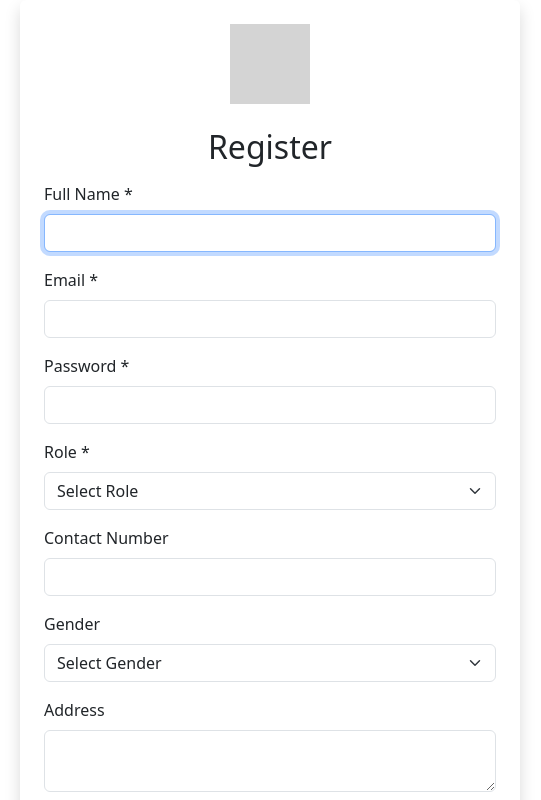
it: Register Component › prevents registration if role is ADMIN
In the field labelled "Full Name *": point(270, 233) [44, 214, 496, 252], type "Test User"
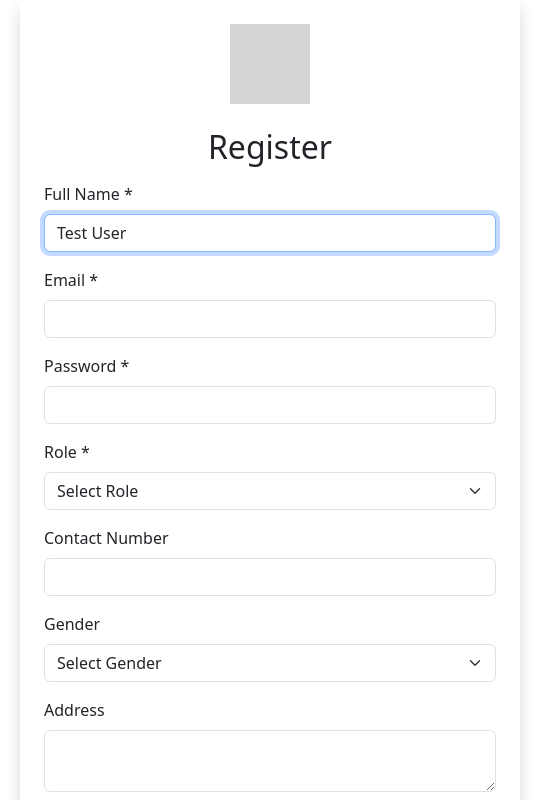
In the field labelled "Email *": point(270, 319) [44, 300, 496, 338], type "test@mail.com"
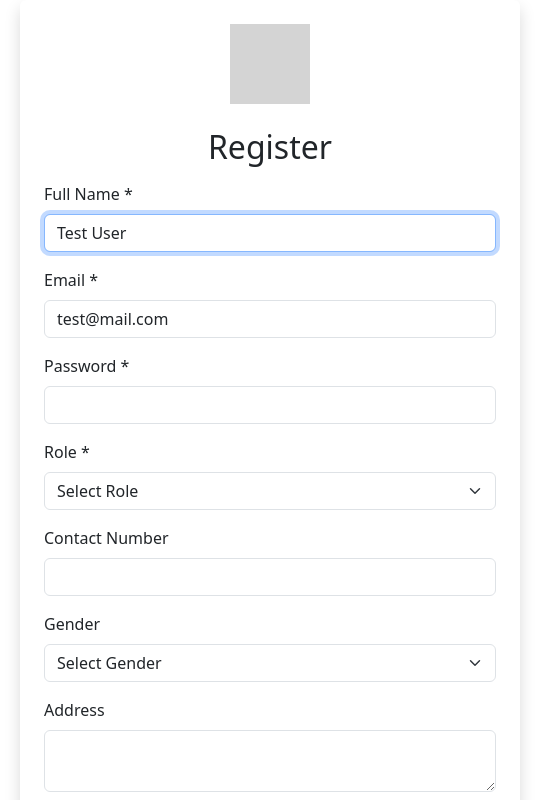
In the password field labelled "Password *": point(270, 405) [44, 386, 496, 424], type "Password1"
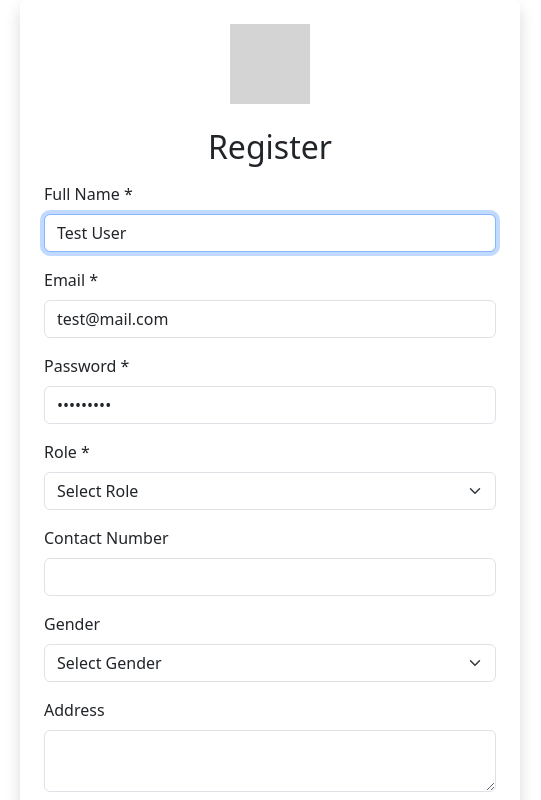
Select "ADMIN" in the dropdown labelled "Role *": point(270, 491) [44, 472, 496, 510]
(page scrolled)
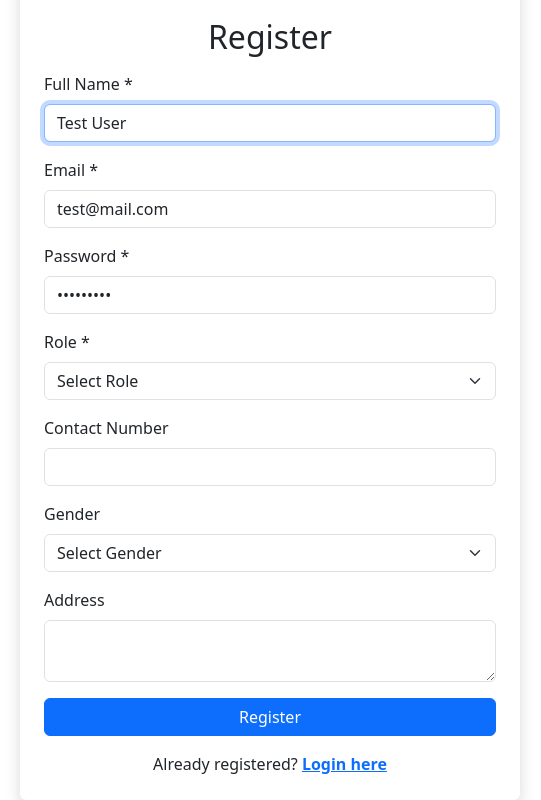
Click the button "Register": point(270, 717) [44, 698, 496, 736]
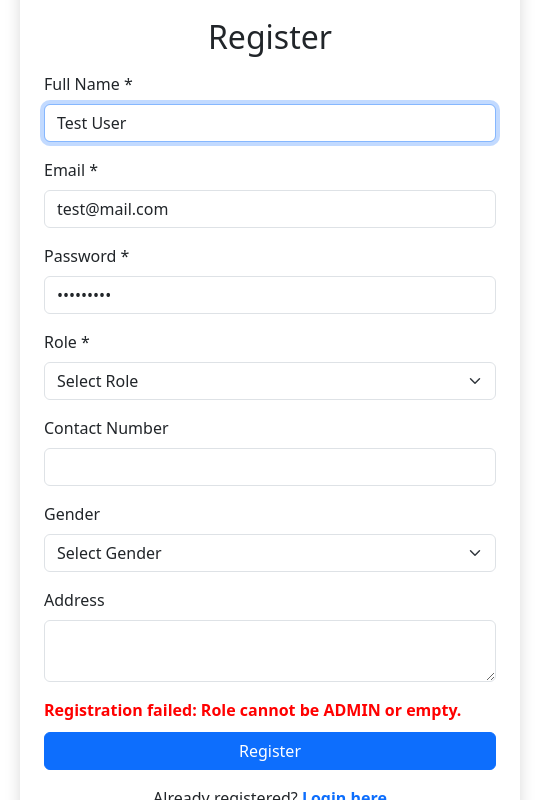
Expected: the text "Registration failed: Role cannot be ADMIN or empty." is shown, [44, 698, 496, 722]
